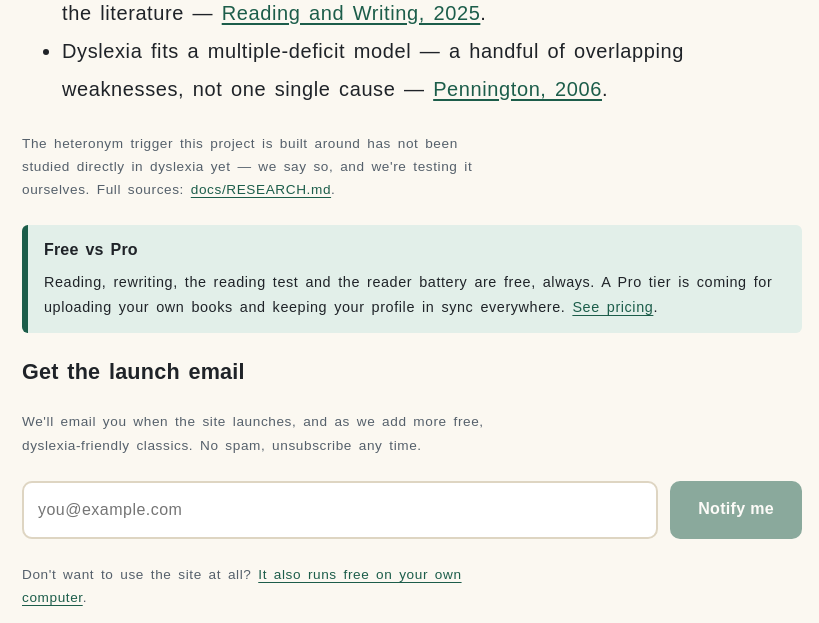
it: Landing › posts an email to the newsletter endpoint
The image size is (819, 623).
(page scrolled)
In the field named "Your email": (340, 510) [22,481,658,539], type "reader@example.com"
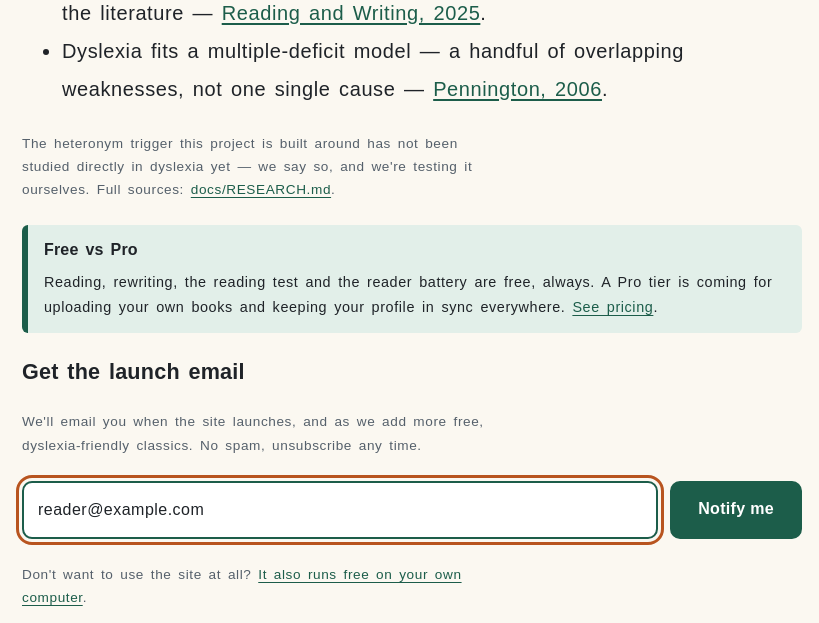
Click the button "Notify me": (736, 510) [670,481,802,539]
(page scrolled)
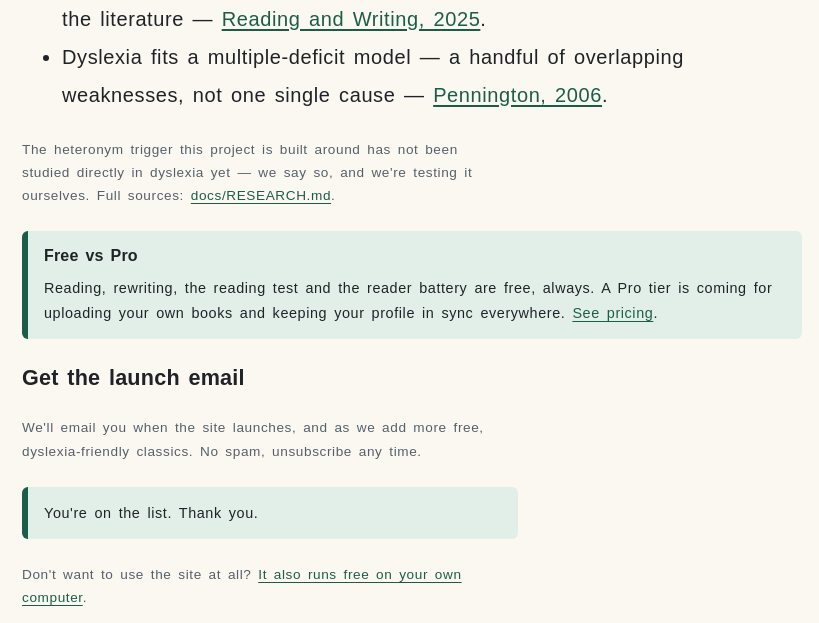
expect the text "You're on the list. Thank you." is shown: met, box [44,505,258,521]
